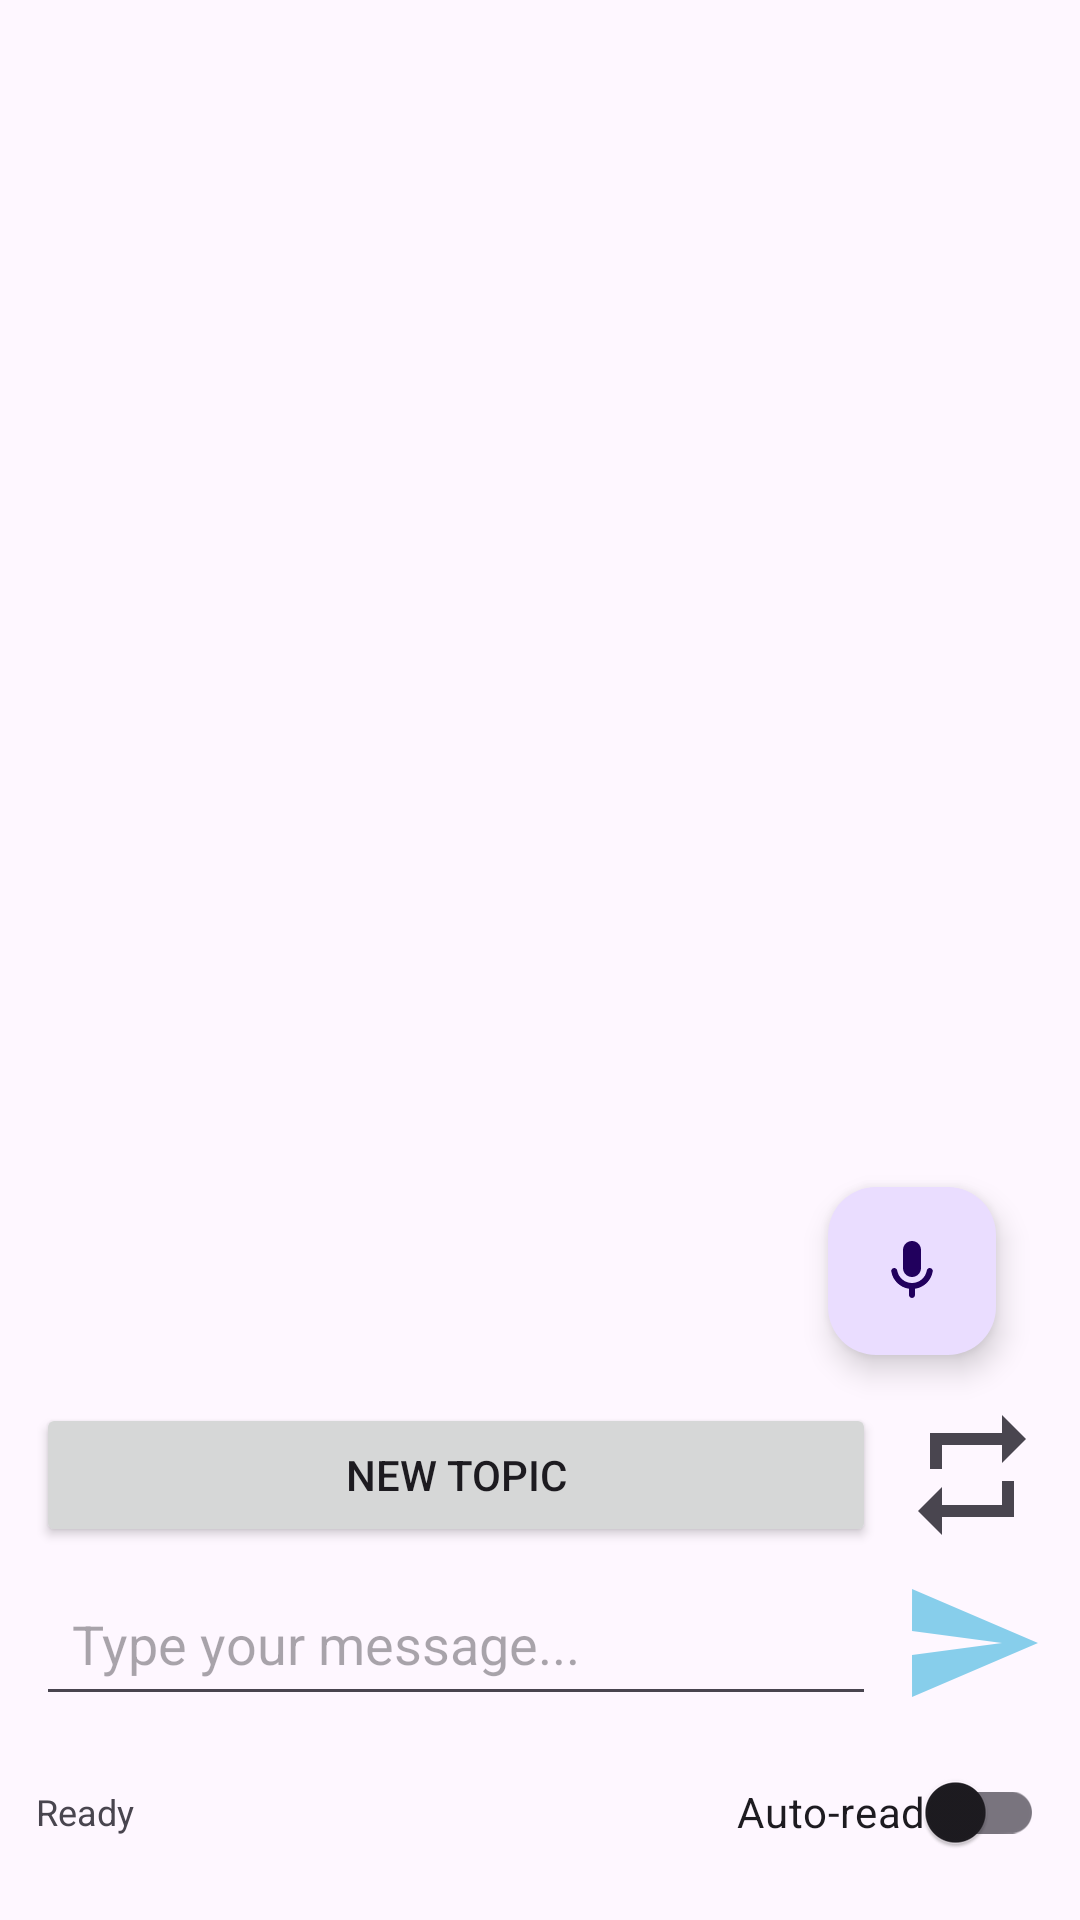

Icon bounding boxes for this 1080×1920 phone screenshot, format [x1, y1, x2, y2]:
mic: [828, 1187, 996, 1355]
Repeat last message: [918, 1415, 1026, 1535]
Send message: [912, 1589, 1037, 1697]
